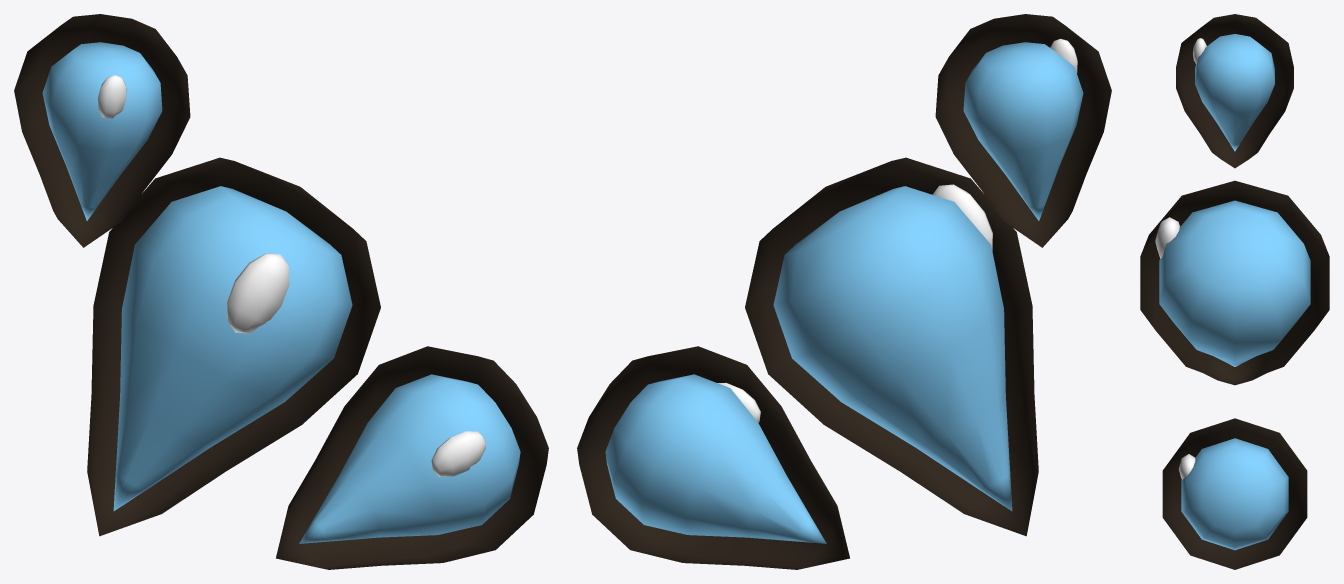
The model's file is prop-sweat.glb.
3 renders of one model, left to right at view 1: azimuth 30°, elevation 25°; view 2: azimuth 150°, elevation 25°; view 3: azimuth 270°, elevation 25°, orthographic. The views are drawn at different scales.
Parts seen in each view (by area): view 1: prop-sweat; view 2: prop-sweat; view 3: prop-sweat.
Part boxes in pixels (box(x1,y1,x2,y2)): prop-sweat: box(14, 14, 548, 569); prop-sweat: box(577, 14, 1111, 569); prop-sweat: box(1140, 14, 1329, 569).
Size of the model in its own units: 0.2857 by 0.328 by 0.1333.
